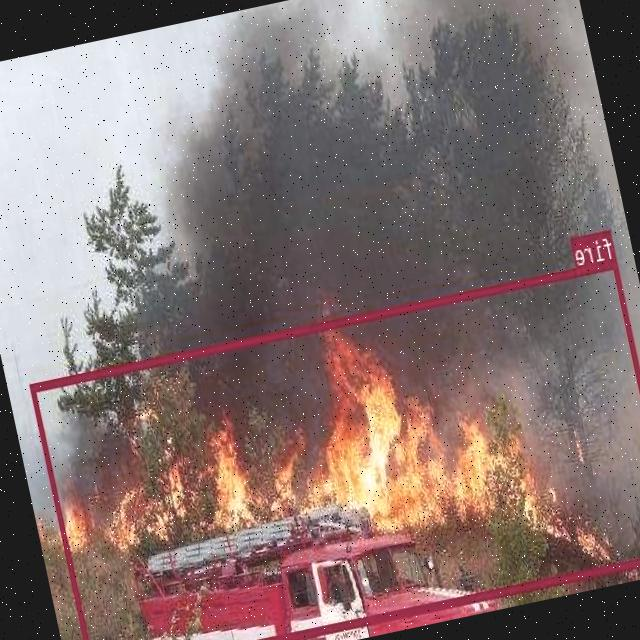fire: (29, 258, 640, 640)
